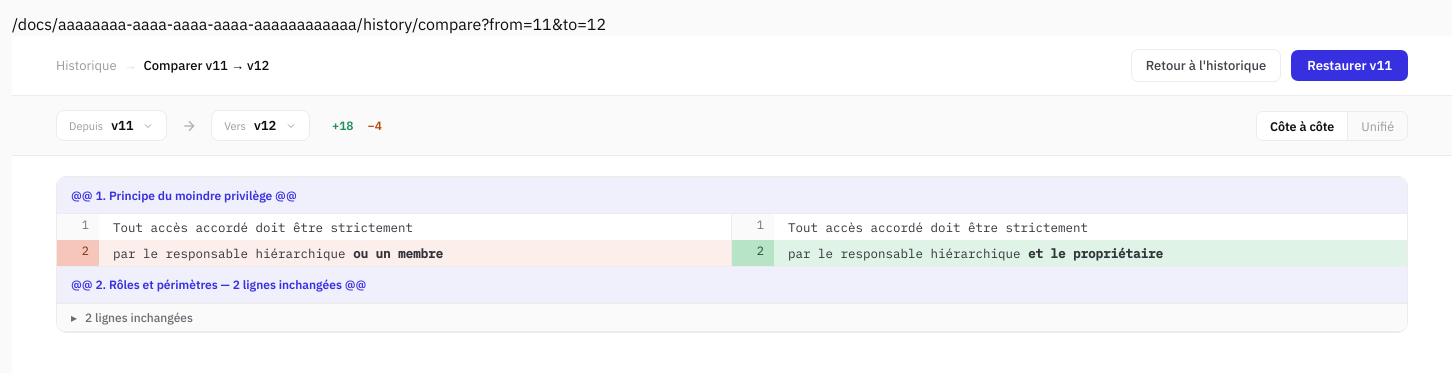
DocumentComparePage › « N lignes inchangées » : replié par défaut, dépliable
Expected: the elements with test id "diff-hunk" read "@@ 1. Principe du moindre privilège @@", "@@ 2. Rôles et périmètres — 2 lignes inchangées @@", in this order, [57,177,1407,214]; [57,266,1407,303]
Expected: the text "de revue formalisé." is not shown
Click the button with test id "diff-collapsed" at (139, 318), box [57,303,1407,332]
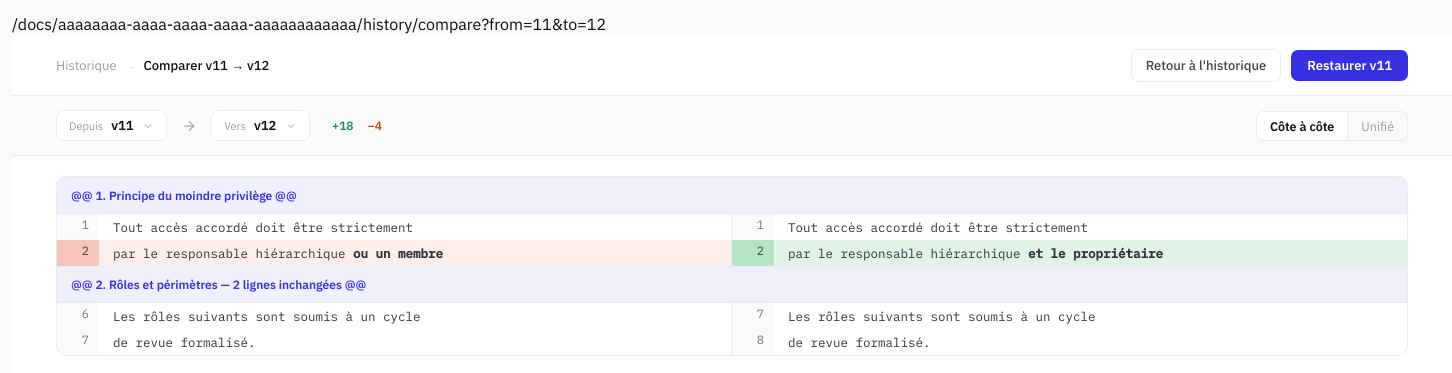
Now the text "de revue formalisé." is shown 2 times, box [99,329,731,355]; [774,329,1407,355]
Now the button with test id "diff-collapsed" is gone
